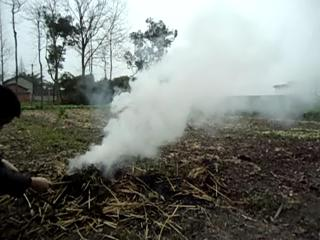yanwu: (76, 14, 264, 170)
